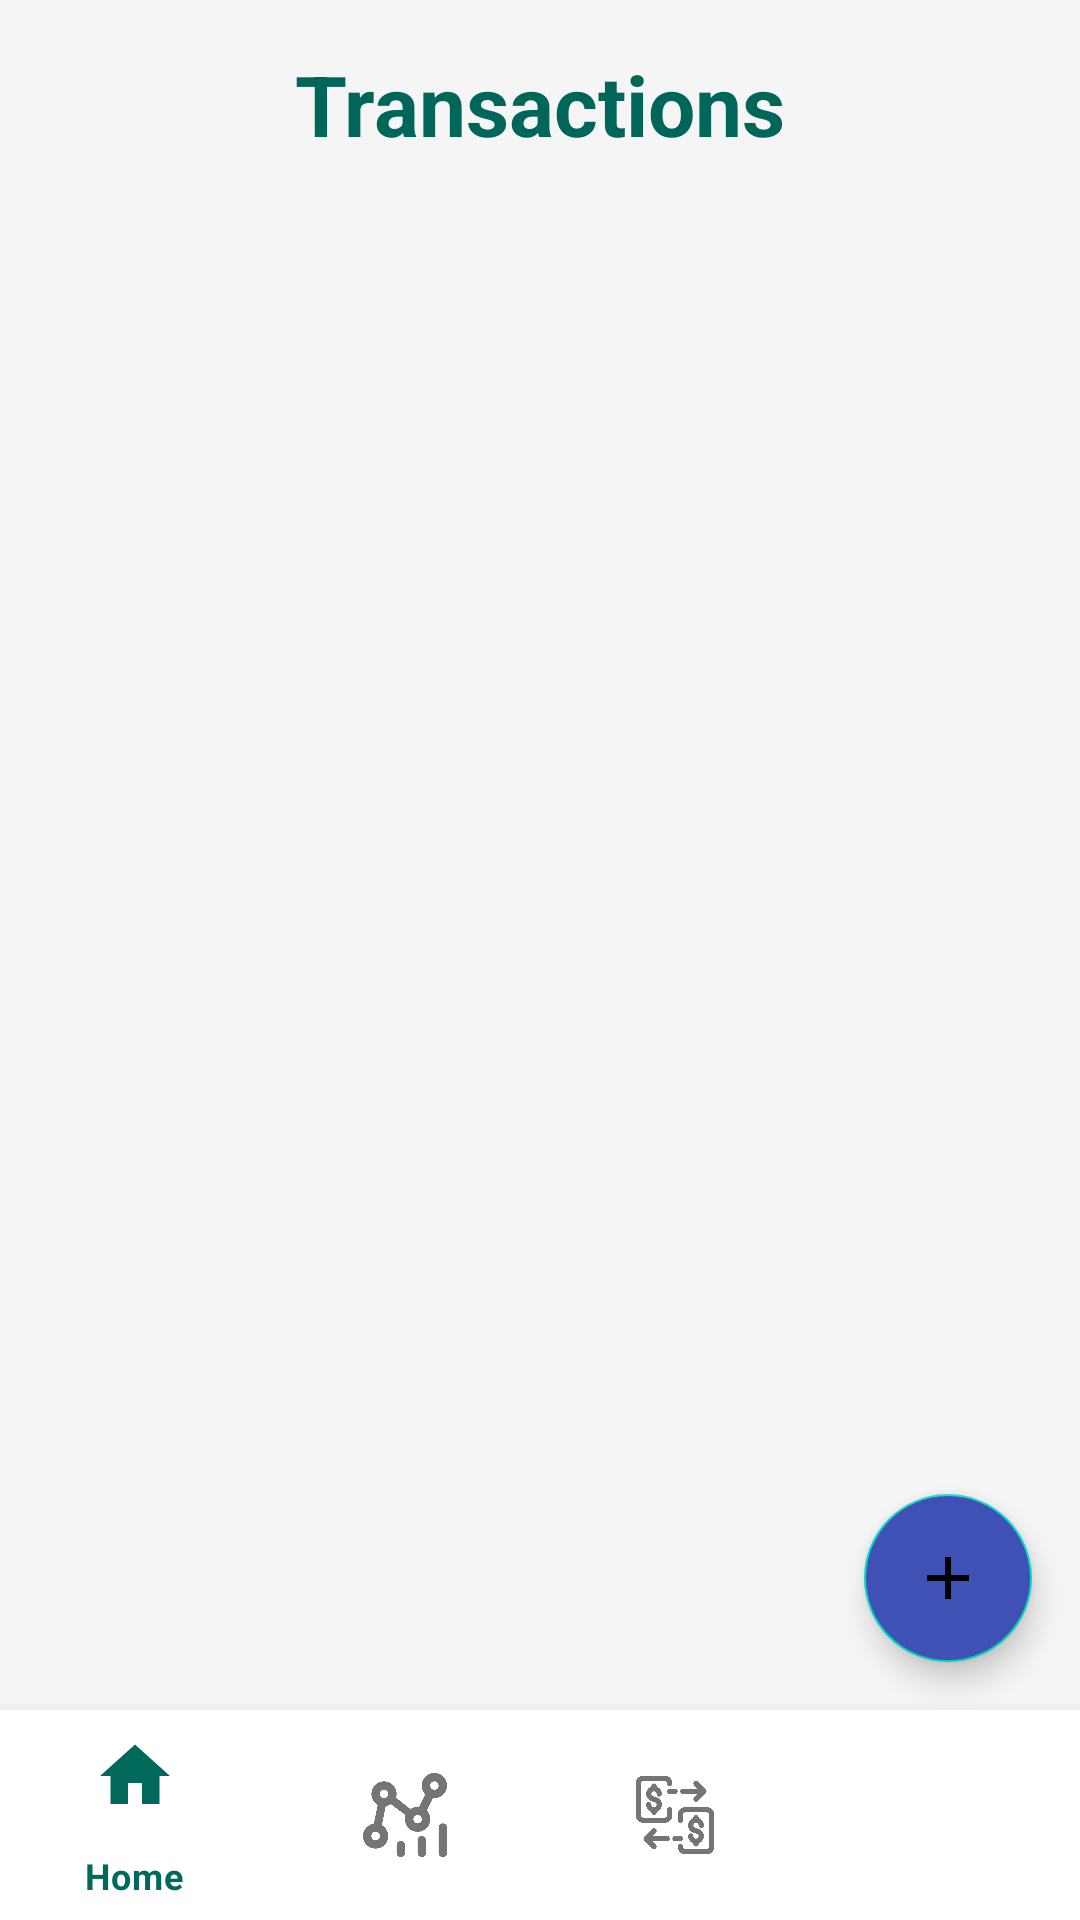

Icon bounding boxes for this 1080px x 1920px phone screenshot, format (x1, y1, x2, y2):
Add Transaction: (864, 1494, 1032, 1662)
